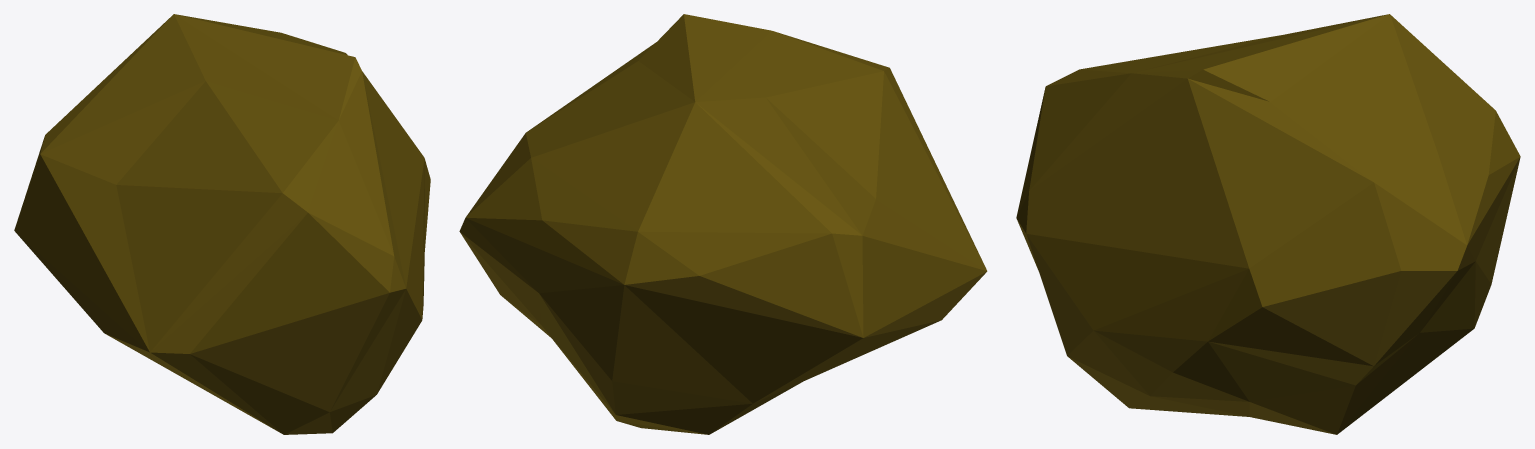
Rendered from Rock.fbx.
3 renders of one model, left to right at view 1: azimuth 30°, elevation 25°; view 2: azimuth 150°, elevation 25°; view 3: azimuth 270°, elevation 25°, orthographic. The views are drawn at different scales.
Parts seen in each view (by area): view 1: Stone; view 2: Stone; view 3: Stone.
Part boxes in pixels (box(x1,y1,x2,y2)): Stone: box(14, 14, 430, 434); Stone: box(459, 14, 987, 434); Stone: box(1016, 14, 1520, 434).
Size of the model in its own units: 182 by 166 by 204.
